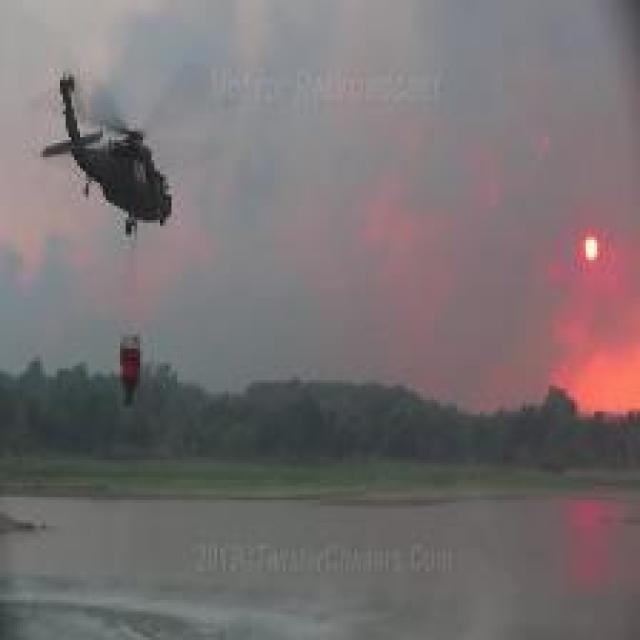other: (537, 213, 628, 432)
